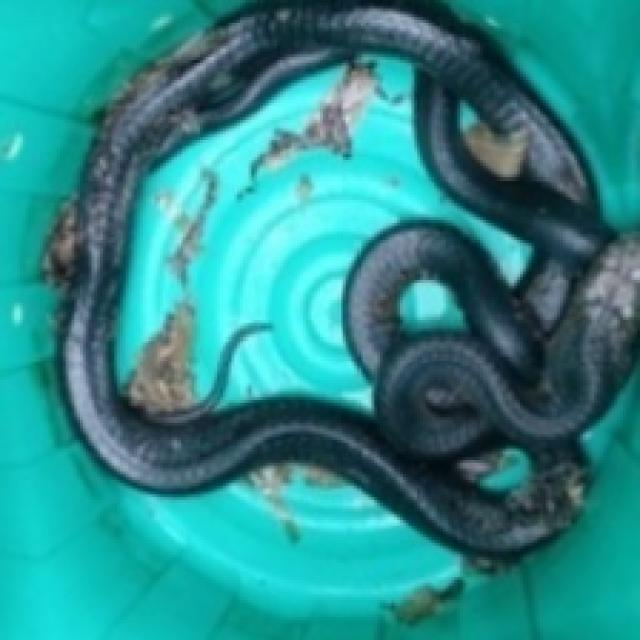king cobra: (57, 0, 637, 557)
